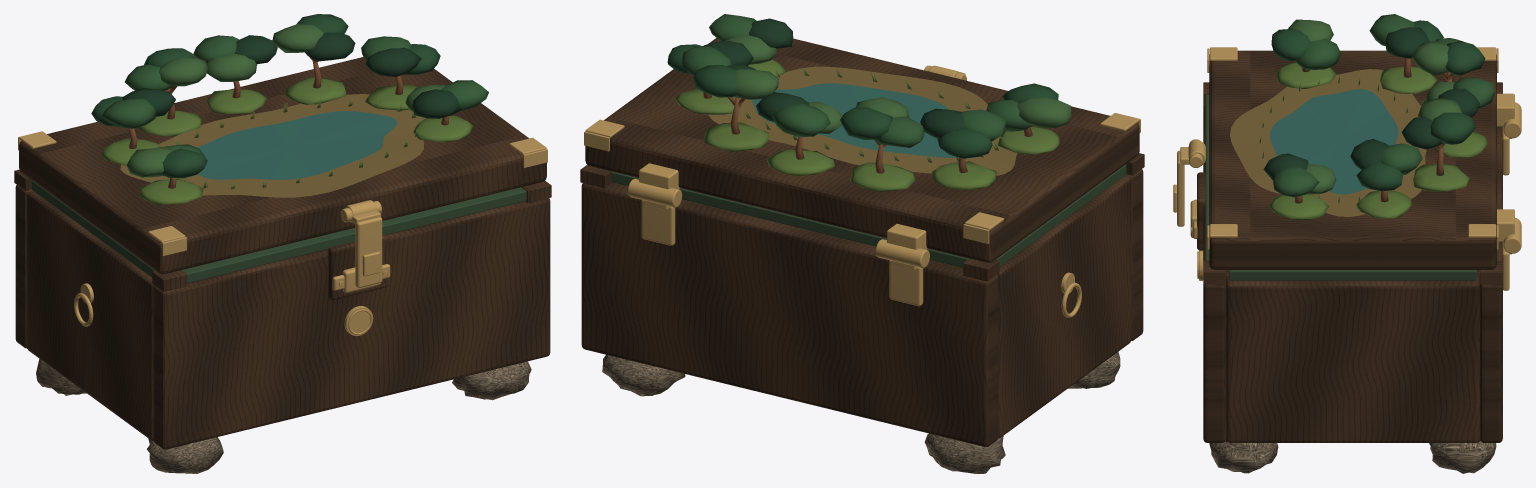
Rendered from congo.glb.
3 renders of one model, left to right at view 1: azimuth 30°, elevation 25°; view 2: azimuth 150°, elevation 25°; view 3: azimuth 270°, elevation 25°, orthographic. The views are drawn at different scales.
Parts seen in each view (by area): view 1: Forest body / long, Lid / polished slab, Forest body / side, Bai / water, Bai / clearing, Mineral seam / long, Granite foot, Granite foot.002, Forest body / long.001, Latch / lifting hasp, Forest body / clasp seat, Mineral seam / side (+28 smaller); view 2: Forest body / long.001, Lid / polished slab, Forest body / side, Bai / clearing, Bai / water, Mineral seam / long.001, Granite foot.001, Forest body / long, Granite foot.003, Forest / broadleaf crown 2 0, Forest / root island 1, Forest / root island 3 (+30 smaller); view 3: Forest body / side.001, Lid / polished slab, Bai / water, Bai / clearing, Forest body / long.001, Forest body / long, Mineral seam / side.001, Granite foot.002, Granite foot.003, Forest / root island 3, Forest / root island 0, Forest / root island 4 (+33 smaller).
Boxes of the visible parts, x1,y1,x2,y2 form: Forest body / long: (153,198,550,449); Lid / polished slab: (19,57,546,274); Forest body / side: (27,191,154,440); Bai / water: (197,111,397,179); Bai / clearing: (120,94,425,197); Mineral seam / long: (182,187,526,283); Granite foot: (147,437,223,473); Granite foot.002: (452,361,531,400); Forest body / long.001: (15,185,32,348); Latch / lifting hasp: (355,217,382,287); Forest body / clasp seat: (328,234,388,300); Mineral seam / side: (31,180,155,277); Forest body / long.001: (581,182,998,447); Lid / polished slab: (585,38,1139,263); Forest body / side: (997,175,1131,438); Bai / clearing: (708,66,1017,175); Bai / water: (752,83,958,157); Mineral seam / long.001: (611,171,968,267); Granite foot.001: (924,433,1005,473); Forest body / long: (1125,169,1143,340); Granite foot.003: (602,354,685,396); Forest / broadleaf crown 2 0: (771,103,830,137); Forest / root island 1: (850,162,915,191); Forest / root island 3: (704,122,768,151); Forest body / side.001: (1226,277,1479,442); Lid / polished slab: (1209,50,1496,269); Bai / water: (1269,89,1398,194); Bai / clearing: (1230,69,1426,216); Forest body / long.001: (1480,126,1502,442); Forest body / long: (1203,106,1226,442); Mineral seam / side.001: (1229,270,1476,280); Granite foot.002: (1209,441,1278,473); Granite foot.003: (1429,441,1496,473); Forest / root island 3: (1413,164,1469,191); Forest / root island 0: (1380,66,1437,93); Forest / root island 4: (1356,190,1412,218).
Size of the model in its own units: 3.79 by 2.93 by 2.88.
12 materials, 2 textured.
